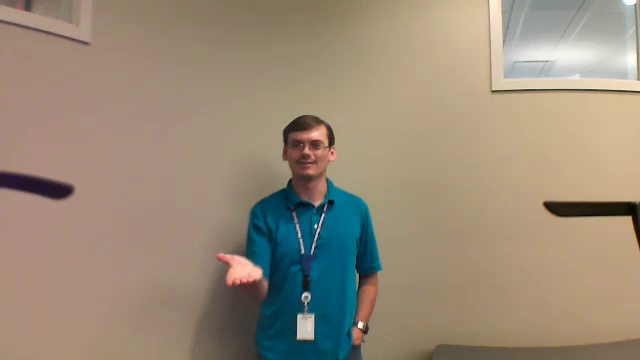land: (205, 246, 271, 297)
